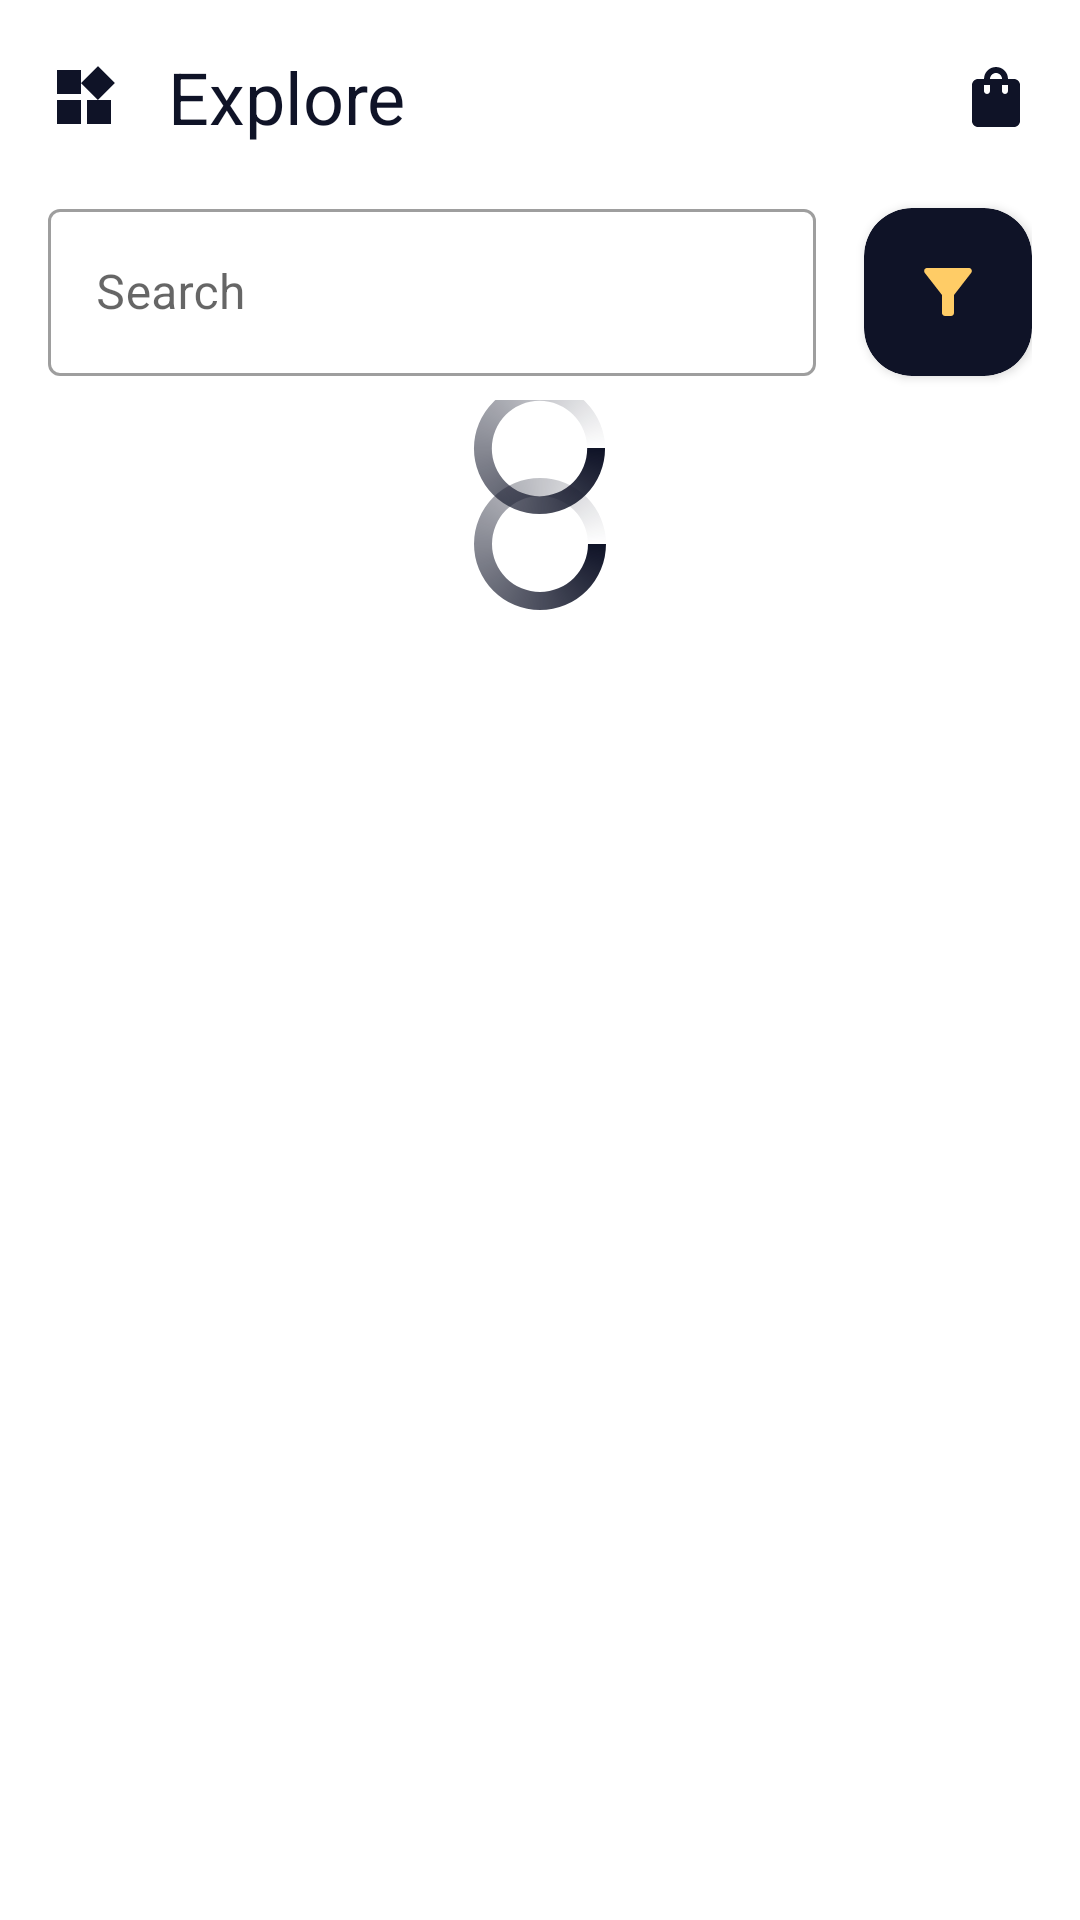

Named icons in this screenshot (1080x1920) and their bounding boxes, bbox(x1, y1, x2, y2):
bag: bbox(972, 67, 1020, 127)
filter: bbox(924, 268, 972, 316)
widget: bbox(57, 66, 115, 124)
